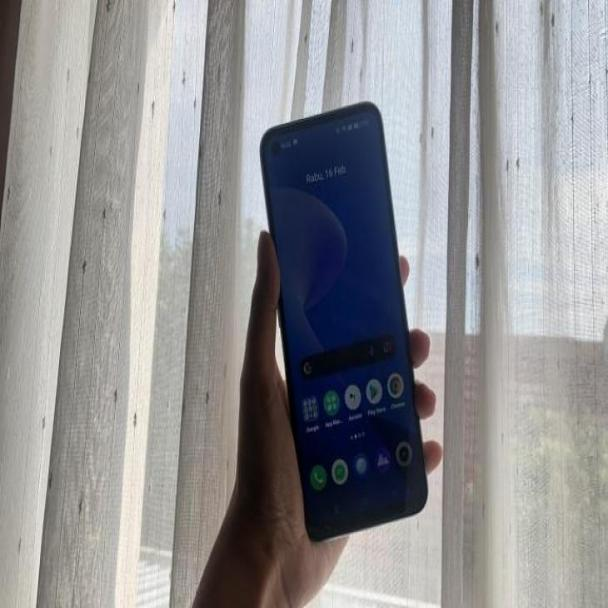Handphone: (259, 98, 430, 542)
